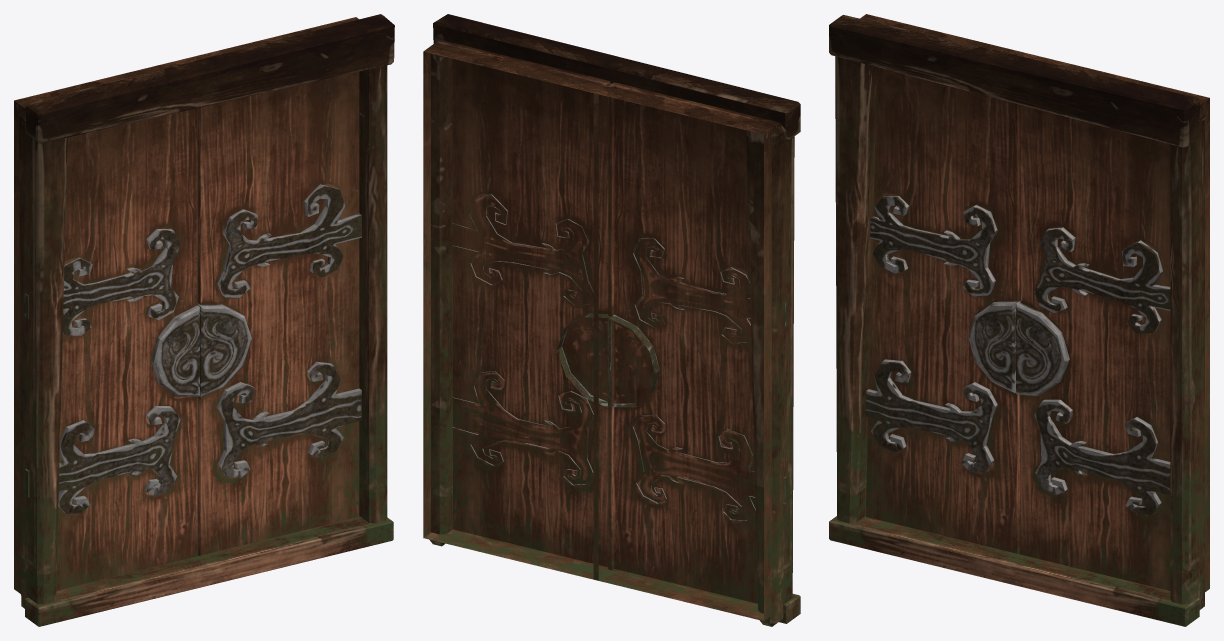
File: SM_Door.fbx
3 renders of one model, left to right at view 1: azimuth 30°, elevation 25°; view 2: azimuth 150°, elevation 25°; view 3: azimuth 330°, elevation 25°, orthographic.
Parts seen in each view (by area): view 1: SM_Door_LOD0; view 2: SM_Door_LOD0; view 3: SM_Door_LOD0.
Boxes of the visible parts, <box> form: SM_Door_LOD0: <box>14,14,394,626</box>; SM_Door_LOD0: <box>423,14,800,626</box>; SM_Door_LOD0: <box>829,14,1209,626</box>.
Bounding box in the file's own units: 255 × 38.95 × 354.
Materials: 1 (1 with a texture image).
